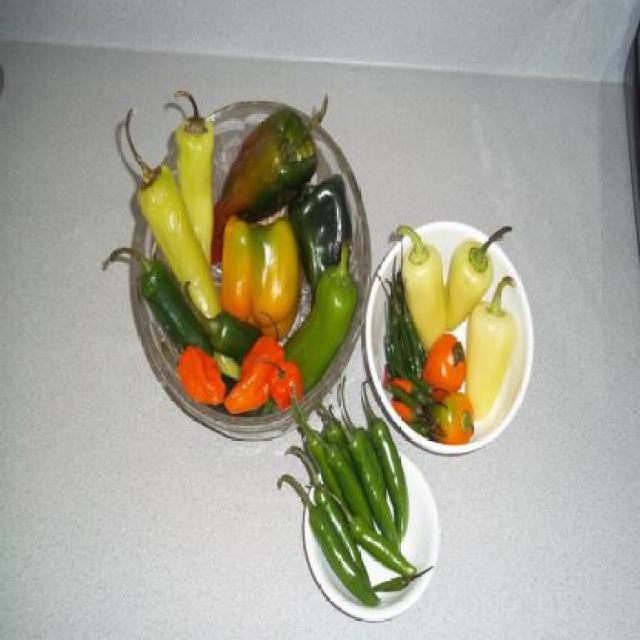Bell pepper: (208, 95, 330, 268), (219, 222, 304, 350), (293, 174, 350, 294), (224, 306, 286, 412), (176, 346, 227, 411), (418, 334, 466, 402), (428, 388, 477, 447), (252, 356, 305, 409)
